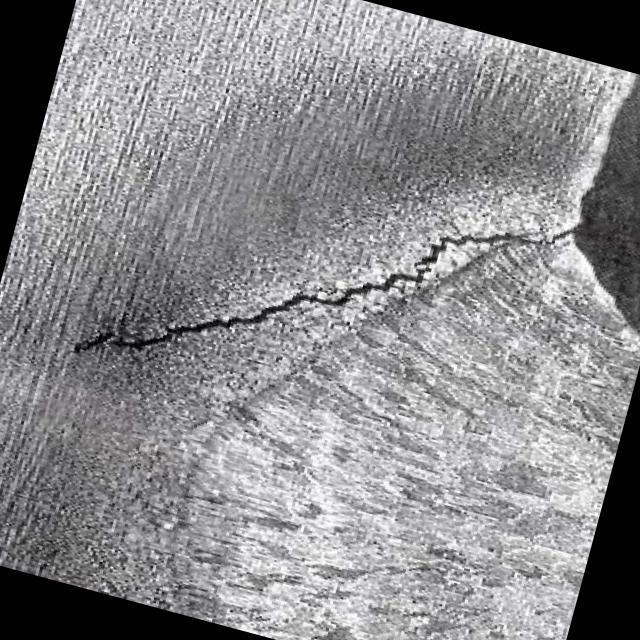defect: (52, 224, 574, 363)
